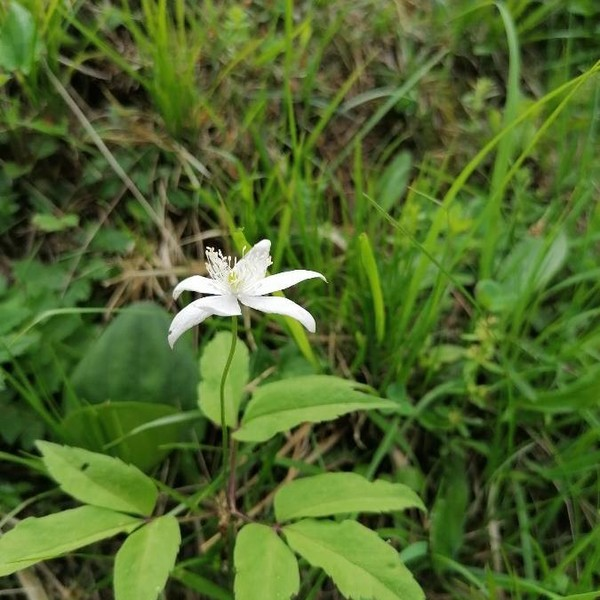obstacle: (72, 220, 429, 580)
